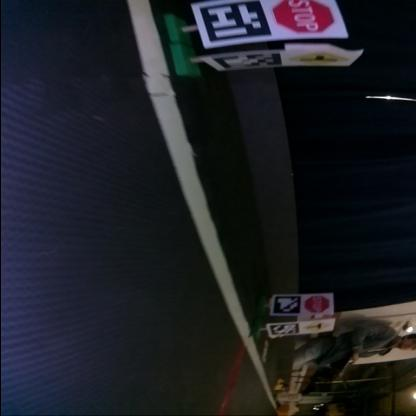Intersection sign: (301, 320, 332, 333)
QR code: (200, 0, 271, 42), (214, 52, 283, 70), (273, 295, 299, 313), (270, 322, 300, 334)
Stop sign: (272, 0, 336, 35), (304, 293, 332, 313)
